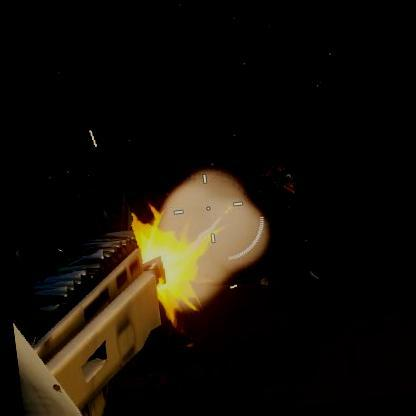person: (251, 150, 311, 281), (258, 212, 308, 283)
